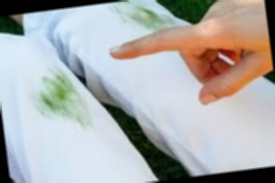earth: (39, 76, 73, 114), (134, 7, 163, 30)
